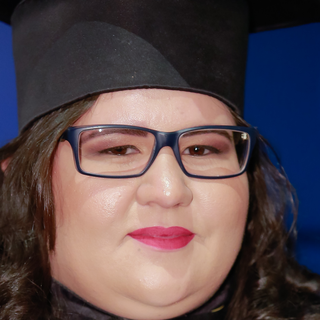eye: (95, 141, 143, 163), (183, 140, 226, 164)
